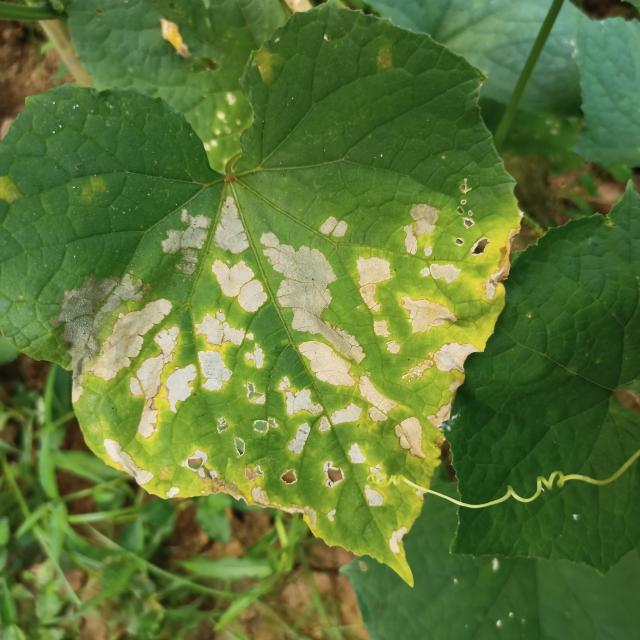disease_cucumber: (61, 192, 519, 552), (0, 171, 25, 217)
